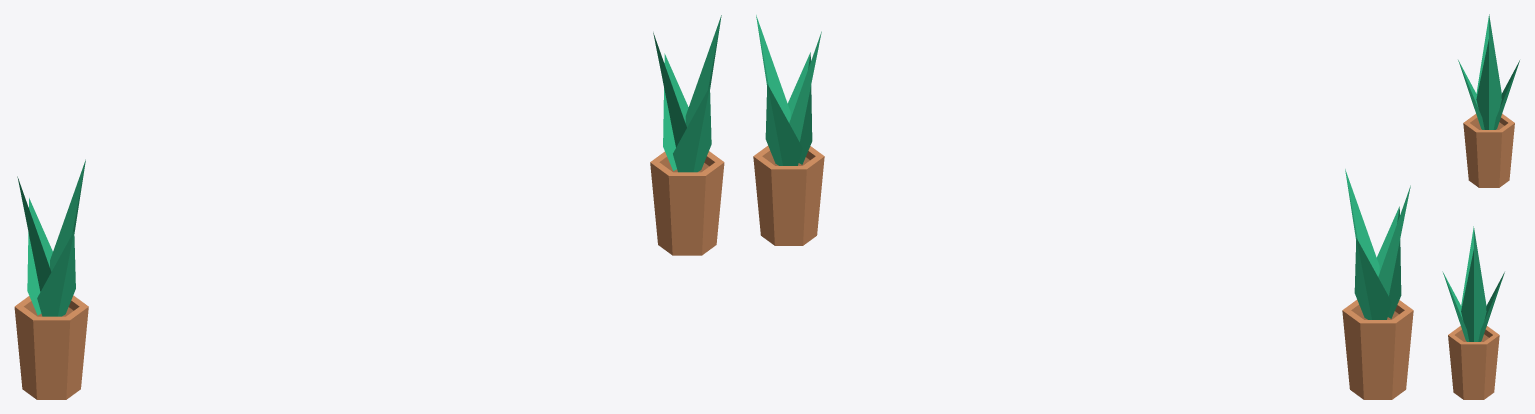
File: plantsFurniture.obj
3 views of the same model, side by side, from view 1: azimuth 30°, elevation 25°; view 2: azimuth 150°, elevation 25°; view 3: azimuth 270°, elevation 25° (orthographic). The views are drawn at different scales.
Parts seen in each view (by area): view 1: pottedPlant.001, pottedPlant; view 2: pottedPlant.001, pottedPlant; view 3: pottedPlant, pottedPlant.001.
Part boxes in pixels (<box>): pottedPlant.001: <box>650,15,724,255</box>; pottedPlant: <box>14,159,88,399</box>; pottedPlant.001: <box>753,15,824,245</box>; pottedPlant: <box>1342,169,1413,399</box>; pottedPlant: <box>1458,14,1519,187</box>; pottedPlant.001: <box>1442,226,1504,399</box>.
Bounding box in the file's own units: 2.13 × 0.654 × 0.3001.
